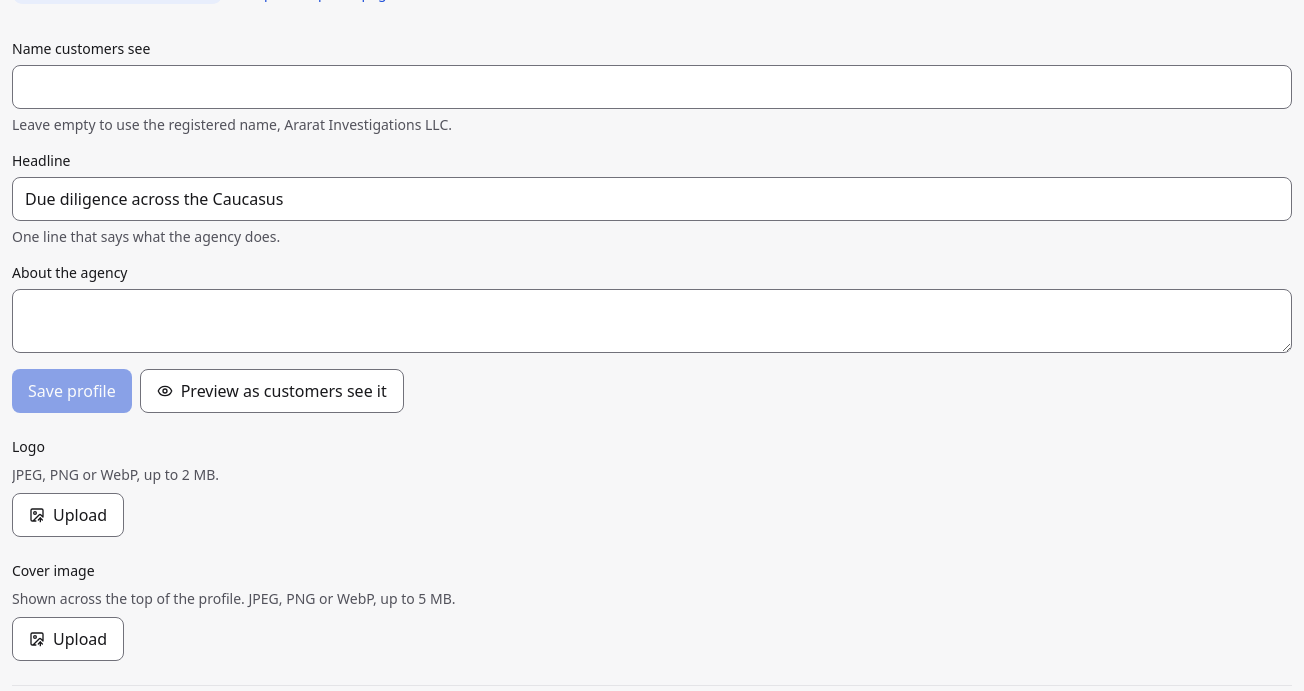
Test: the public profile editor › lets a published profile be unpublished even with changes waiting, and says why publishing failed
The image size is (1304, 691).
Step 1. Type "!" into the field labelled "Headline" → (652, 199), box [12,177,1292,221]
(page scrolled)
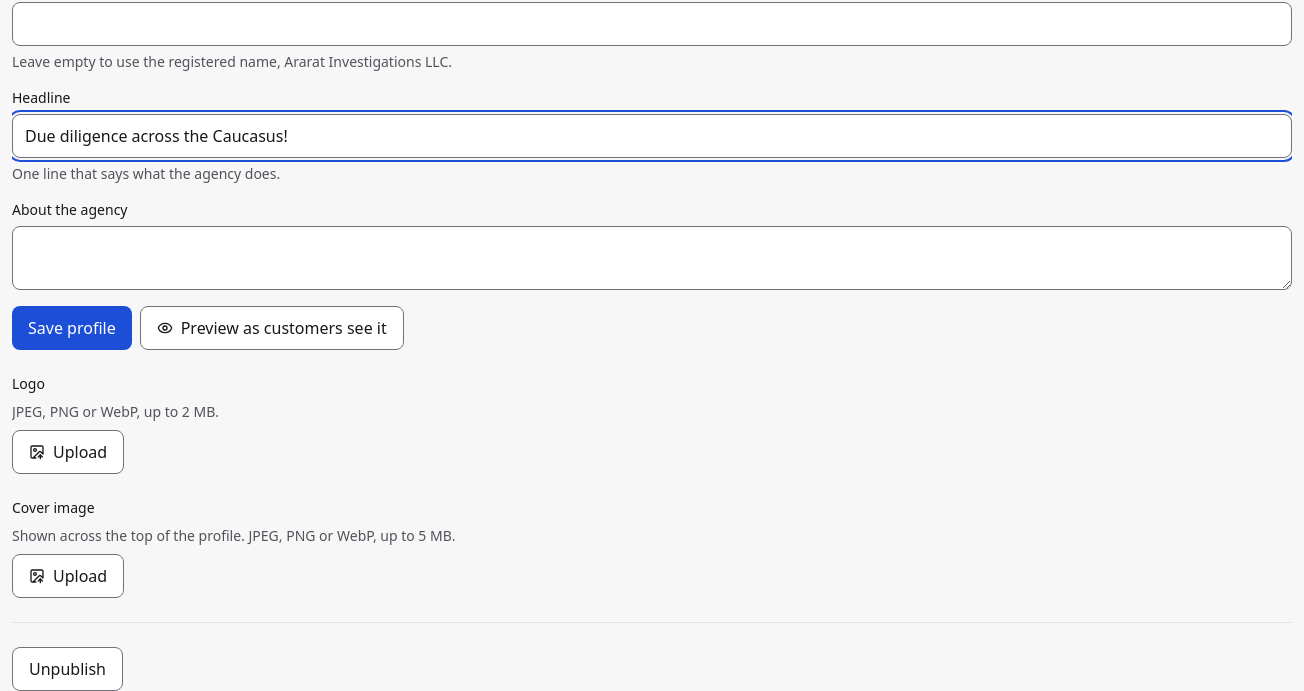
Step 2. Click the button "Unpublish" → (68, 669), box [12,647,123,690]
(page scrolled)
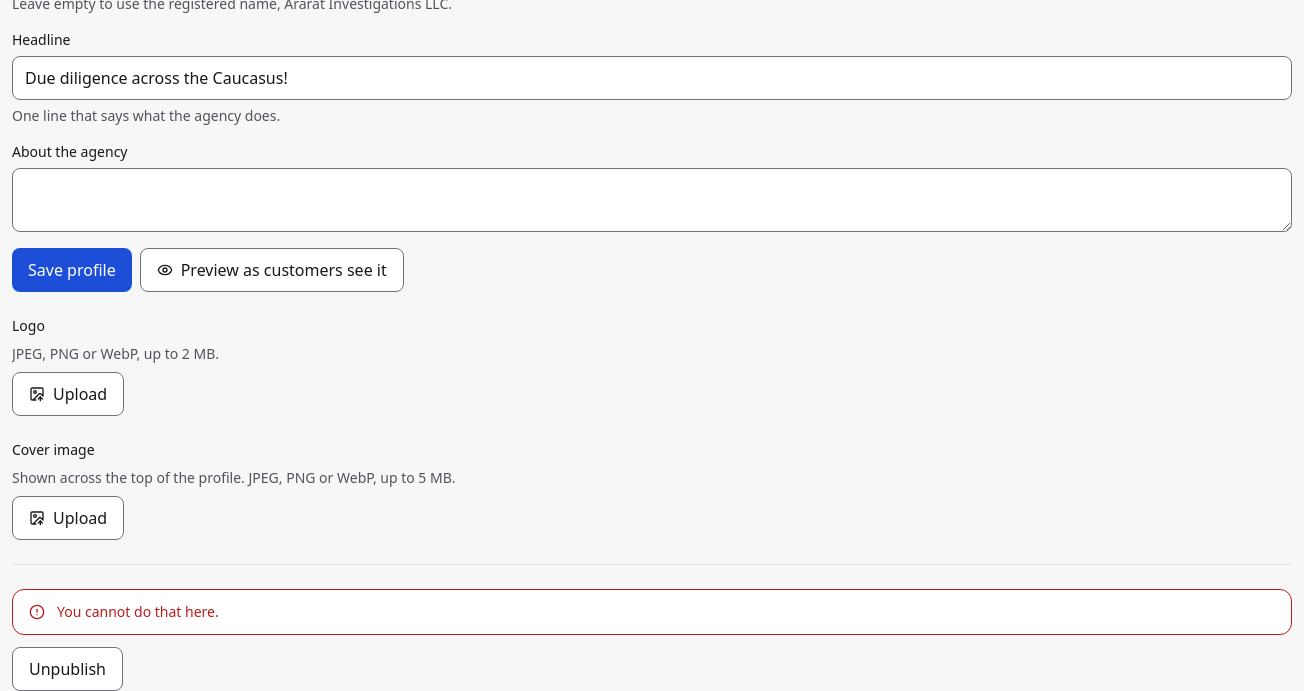
Expected: the message reads "You cannot do that here.", [57,602,219,621]
